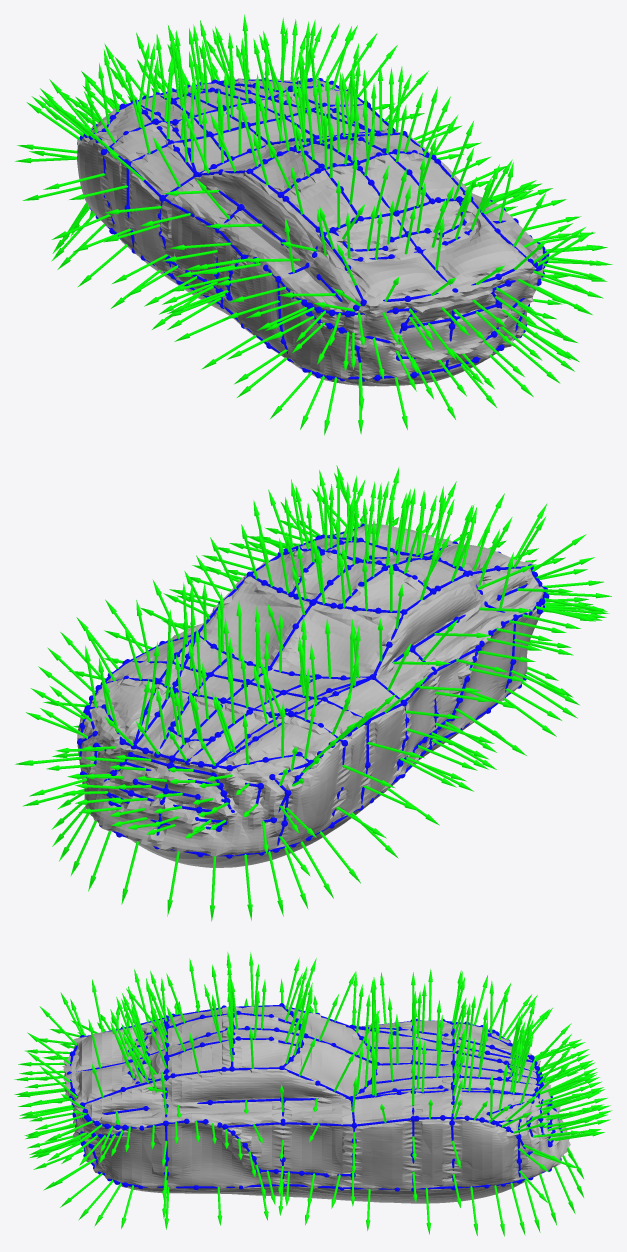
The model's file is ils_car5.gltf.
3 views of the same model, one above another, from view 1: azimuth 30°, elevation 25°; view 2: azimuth 150°, elevation 25°; view 3: azimuth 270°, elevation 25° (orthographic). The views are drawn at different scales.
Size of the model in its own units: 0.6143 by 0.42 by 1.06.
